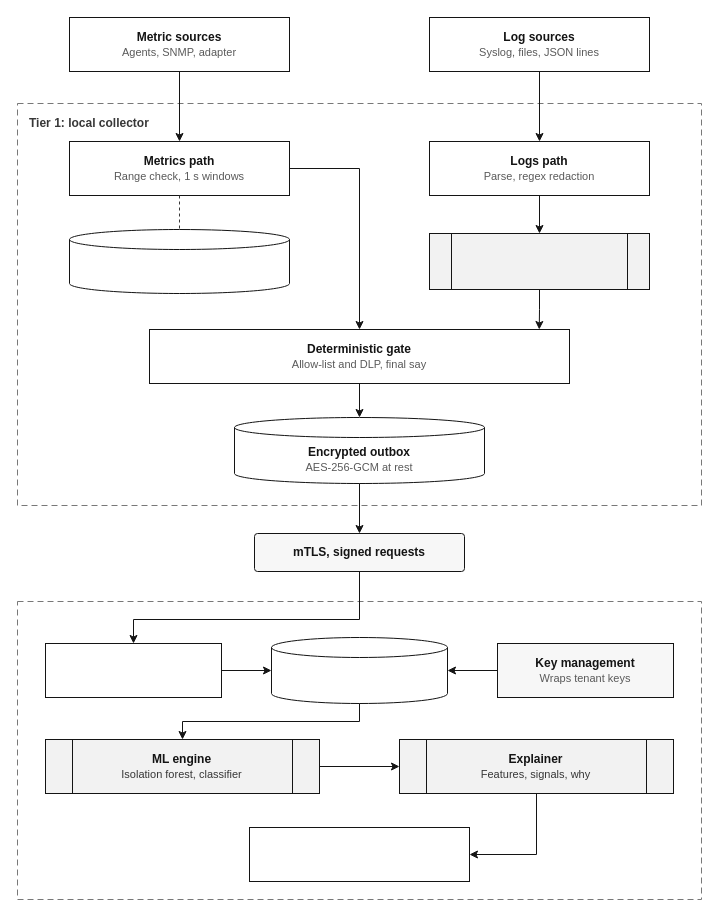
Image size: 719x917. Some labels were removed from this diagram. The box of each missing label's shape, as (x1, y1, x2, y2) in pixels:
Dashboard Incidents, approvals: (248, 826, 470, 882)
Edge ML Drain templates, secret check: (428, 232, 650, 290)
Encrypted raw store AES-256-GCM, OS keystore: (68, 228, 290, 294)
Ingest Validate, decrypt: (44, 642, 222, 698)
Tenant stores Per-tenant keys: (270, 636, 448, 704)
Tier 2: SaaS: (16, 600, 702, 900)
